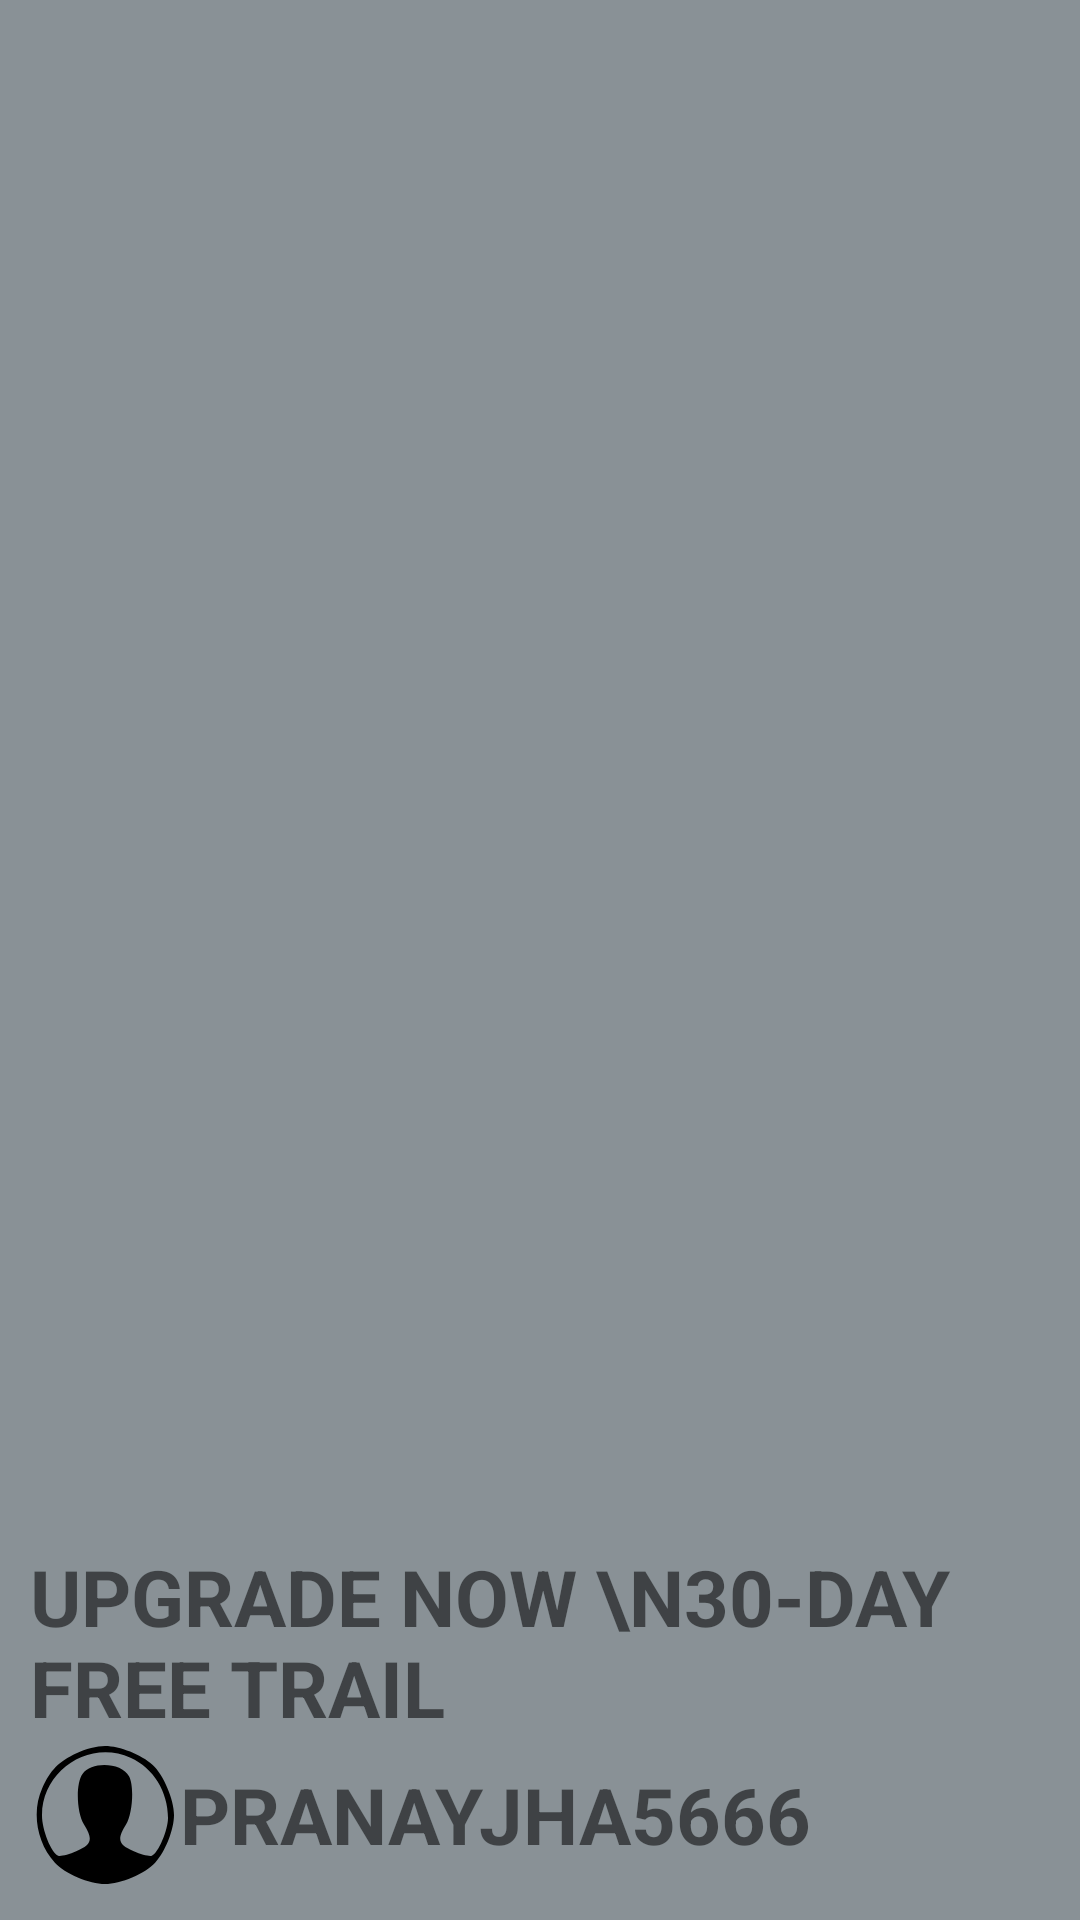

Icon bounding boxes for this 1080w x 1920h phone screenshot, format (x1, y1, x2, y2):
Profile Image: (36, 1746, 174, 1884)
